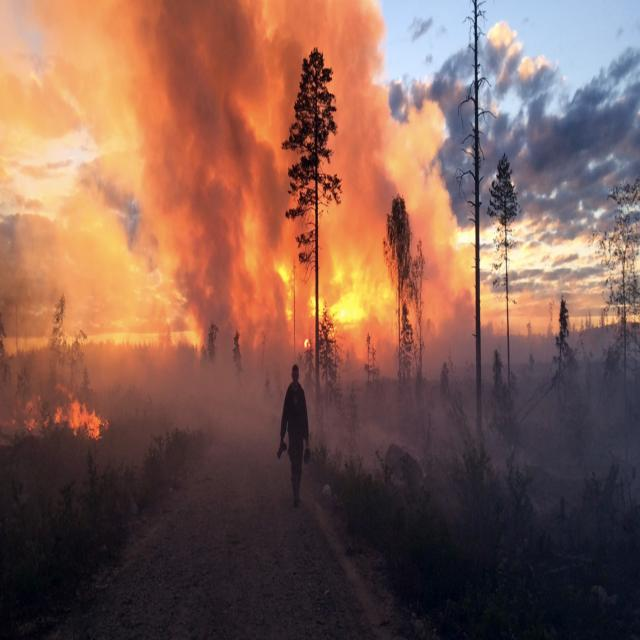Smoke: (0, 0, 571, 400)
